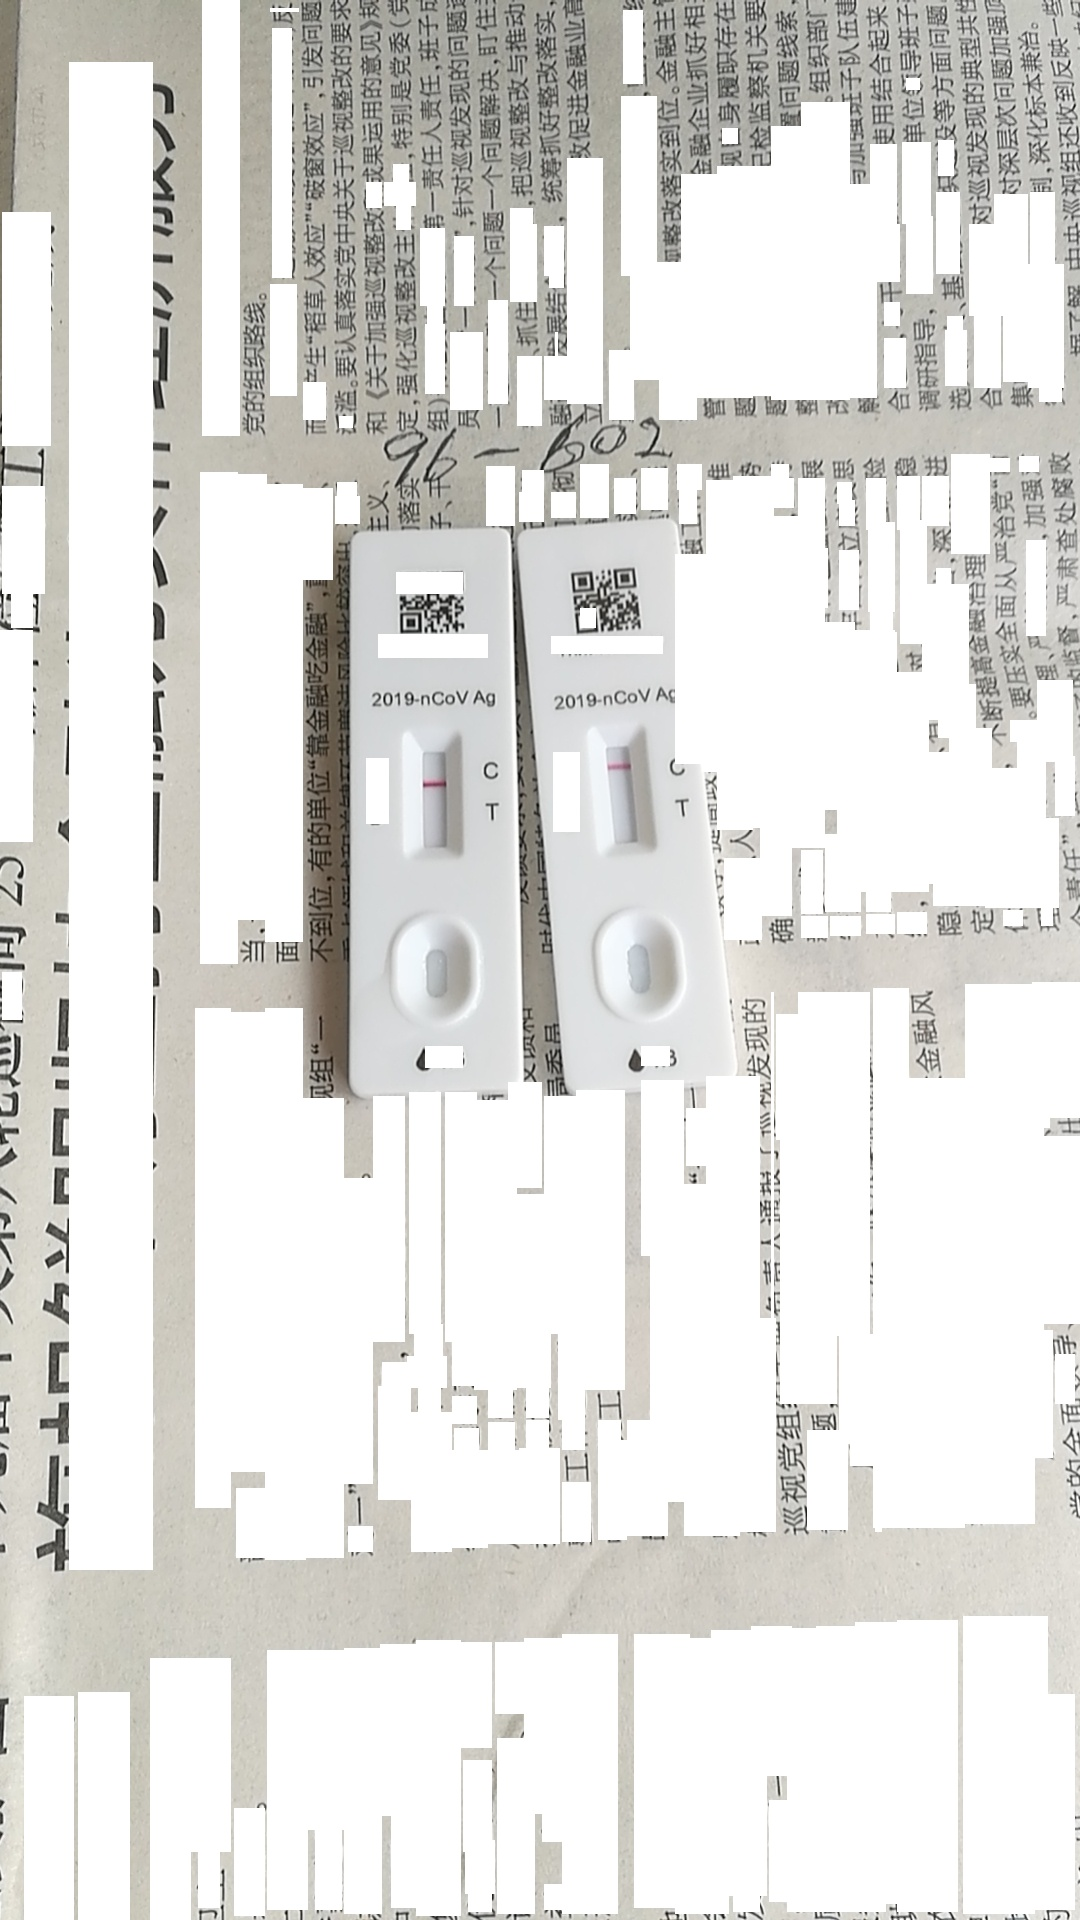negative: (591, 732, 655, 858), (407, 738, 462, 864)
